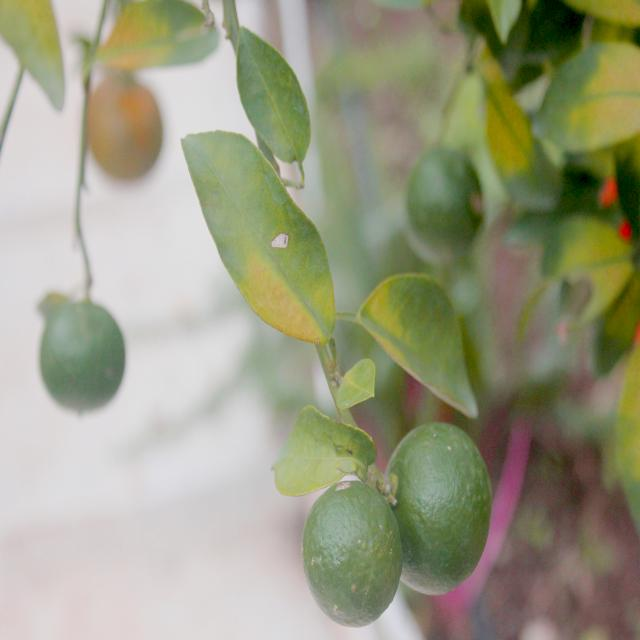greening: (204, 162, 327, 338), (366, 263, 472, 411)
